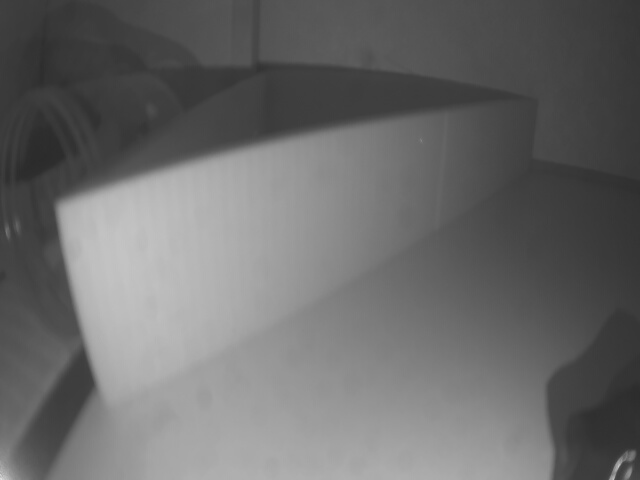Red: (57, 100, 540, 419)
